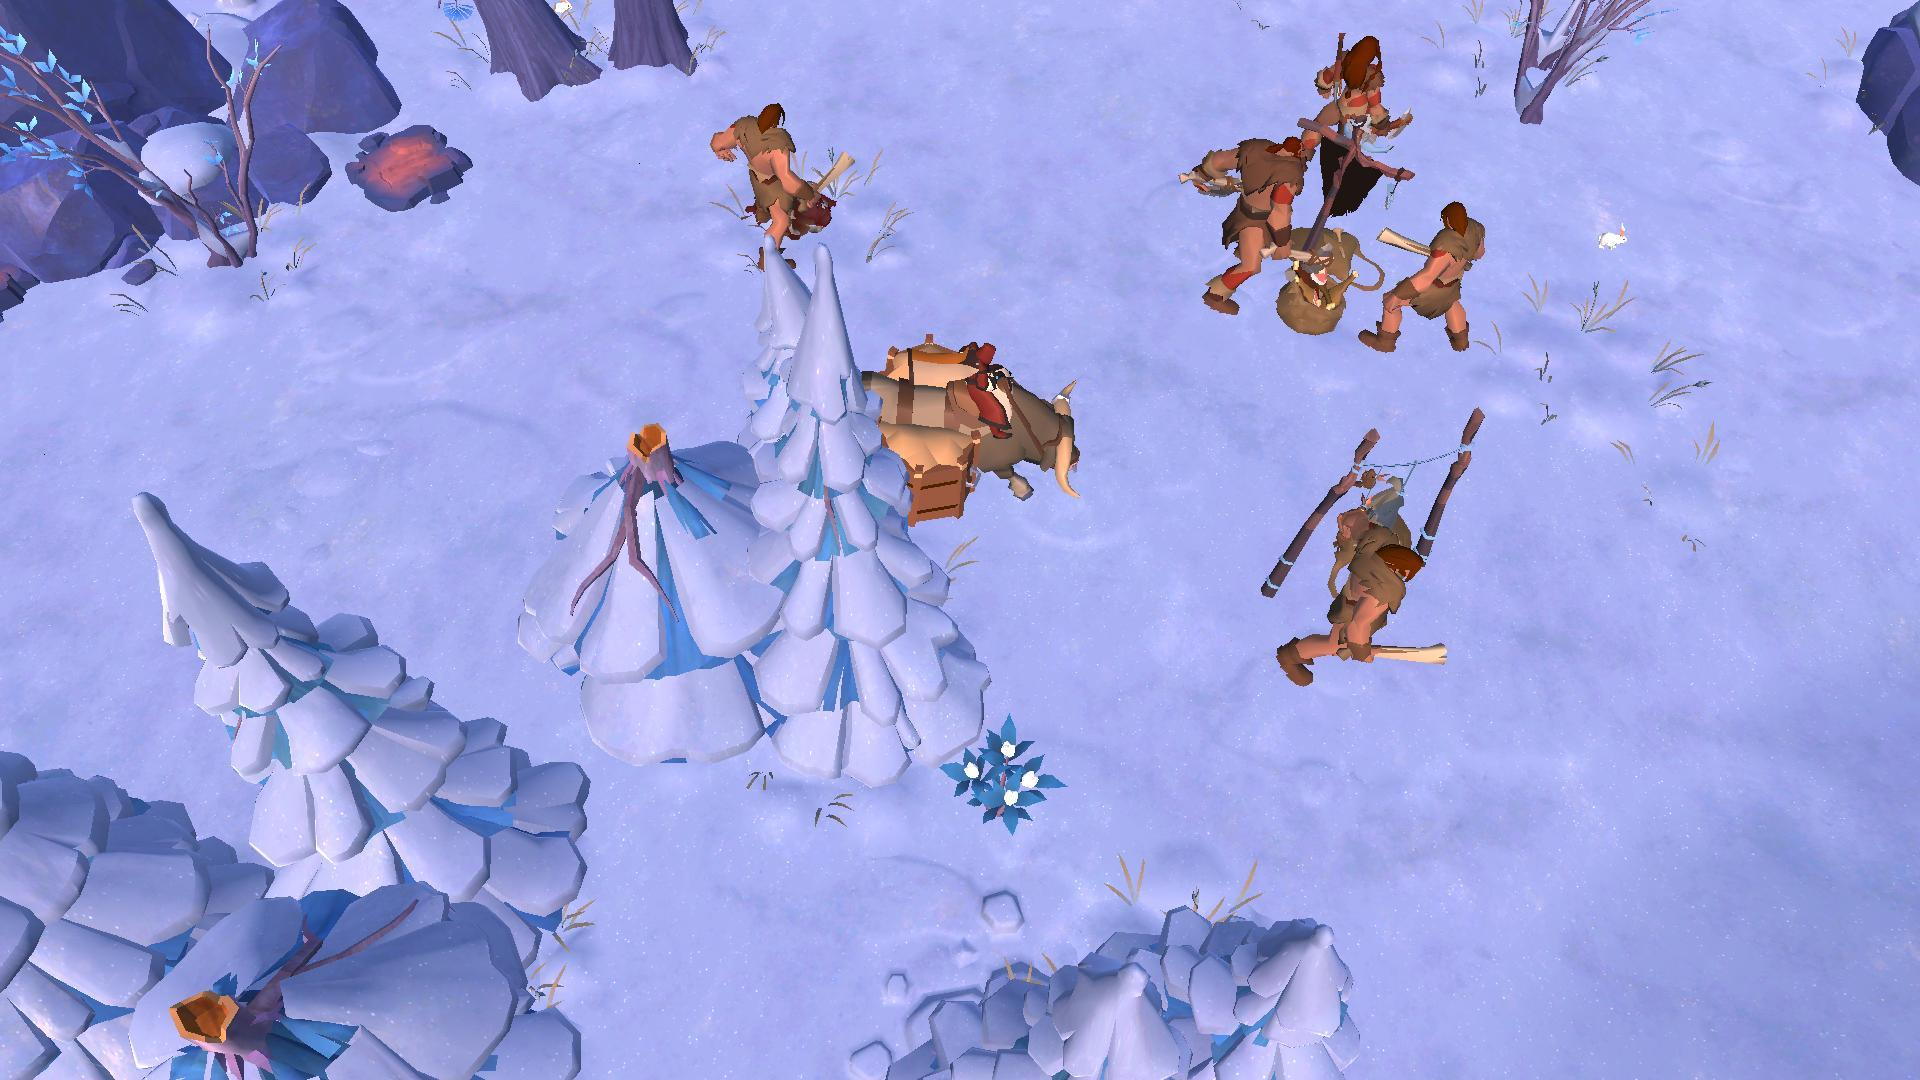enemy_factionKeeper: (1270, 496, 1444, 698), (1360, 198, 1498, 364), (708, 94, 837, 265), (1199, 121, 1302, 310), (1284, 20, 1408, 161)
fiber_t4: (943, 716, 1051, 829)
